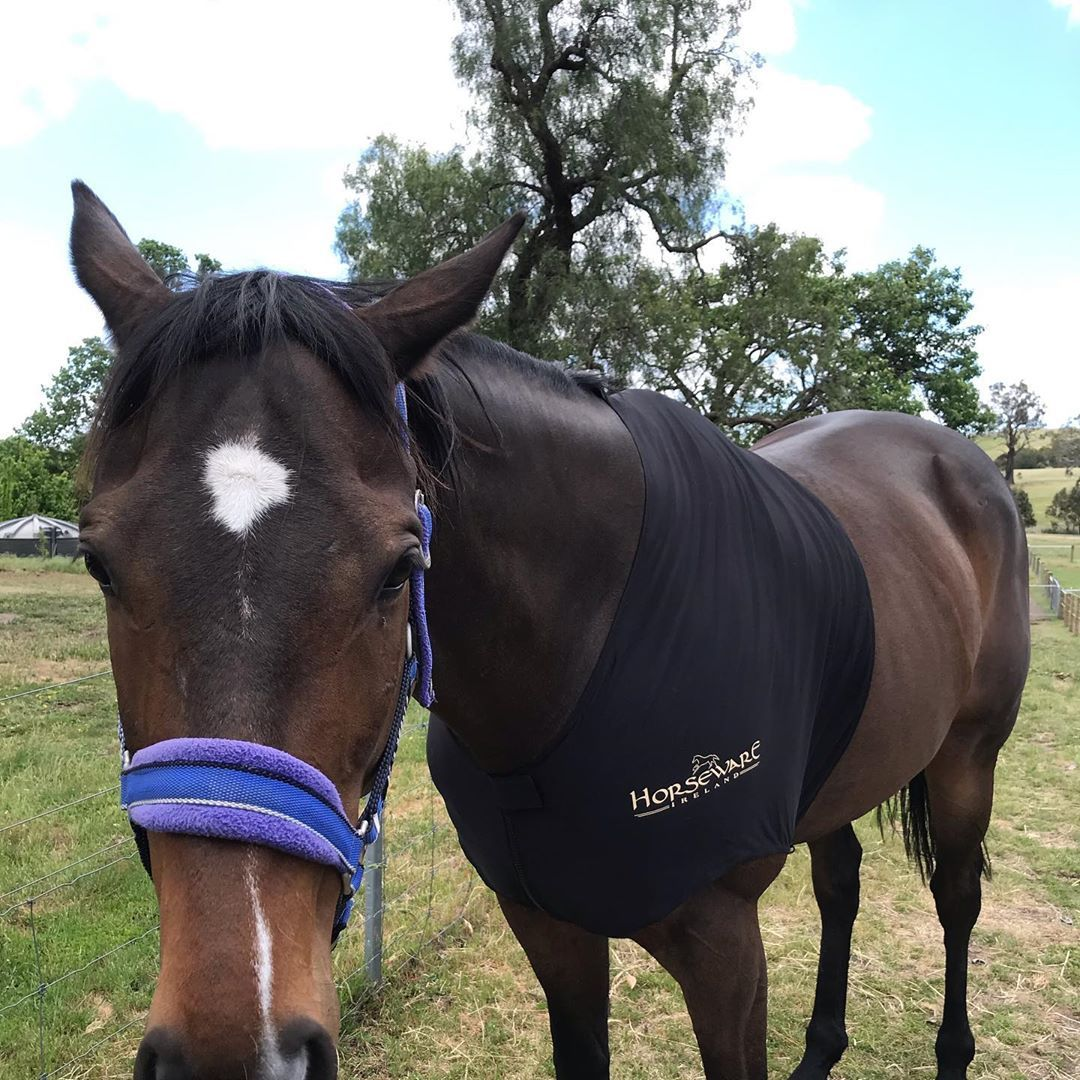Horse: (37, 146, 1025, 1030)
